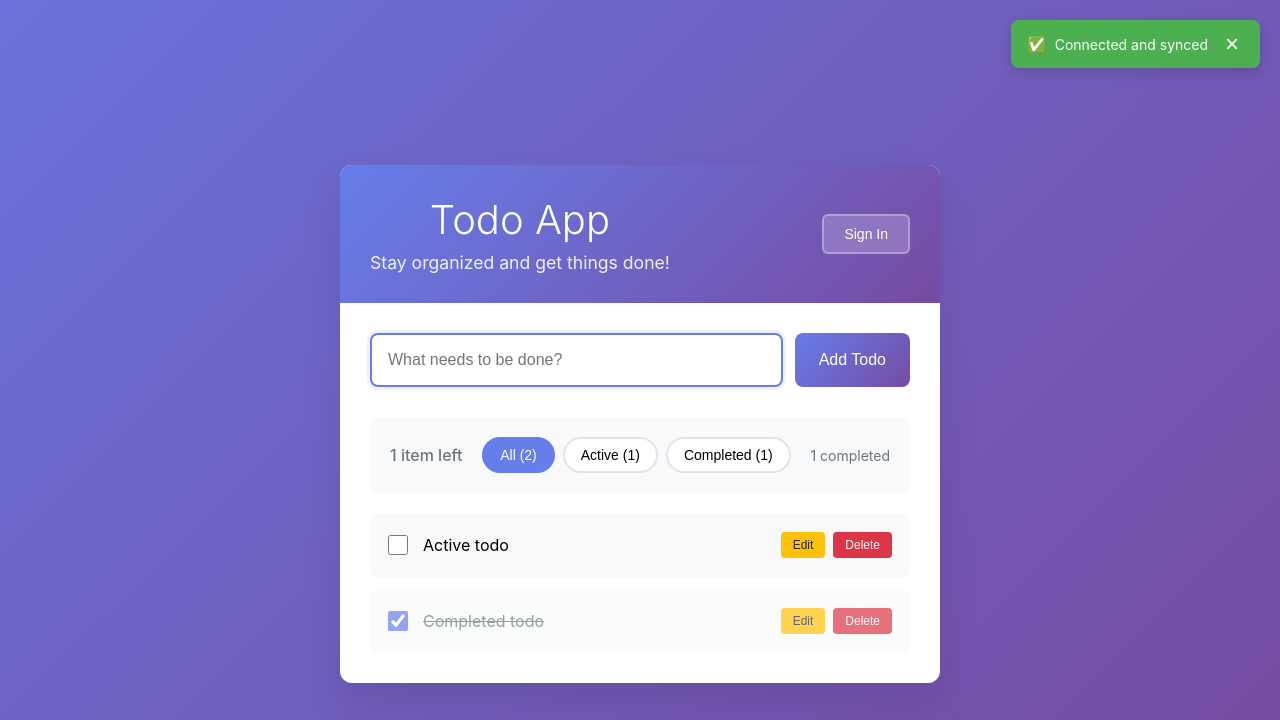
Test: App Component › filters todos correctly
(page scrolled)
Expected: the text "Active todo" is shown, [423,535,509,555]
Expected: the text "Completed todo" is shown, [423,611,544,631]
Note: Test active filter - use regex to match button text with spaces
What coordinates should you click on to do the following:
click the button "Active (1)"
I would click on:
 (610, 455)
Its box is [563,437,658,473].
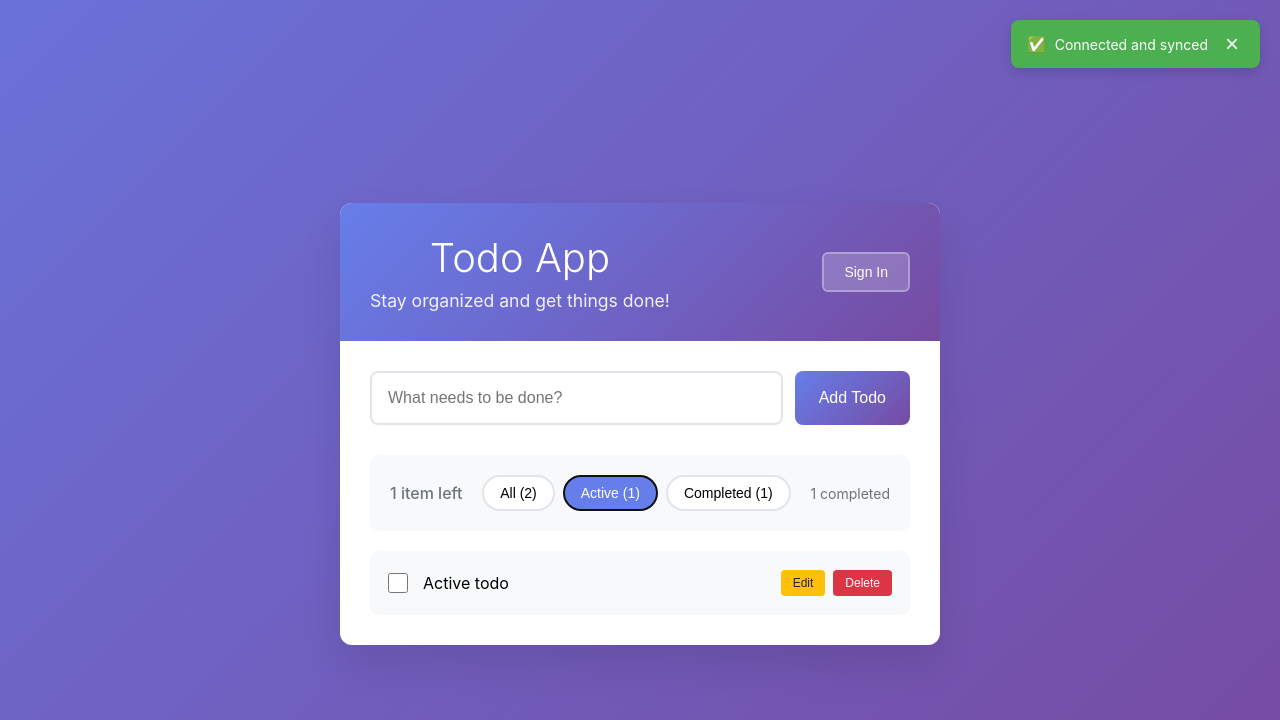
Expected: the text "Active todo" is shown, [423,573,509,593]
Expected: the text "Completed todo" is gone
Note: Test completed filter
What coordinates should you click on to do the following:
click the button "Completed (1)"
I would click on:
 (728, 493)
Its box is [666,475,791,511].
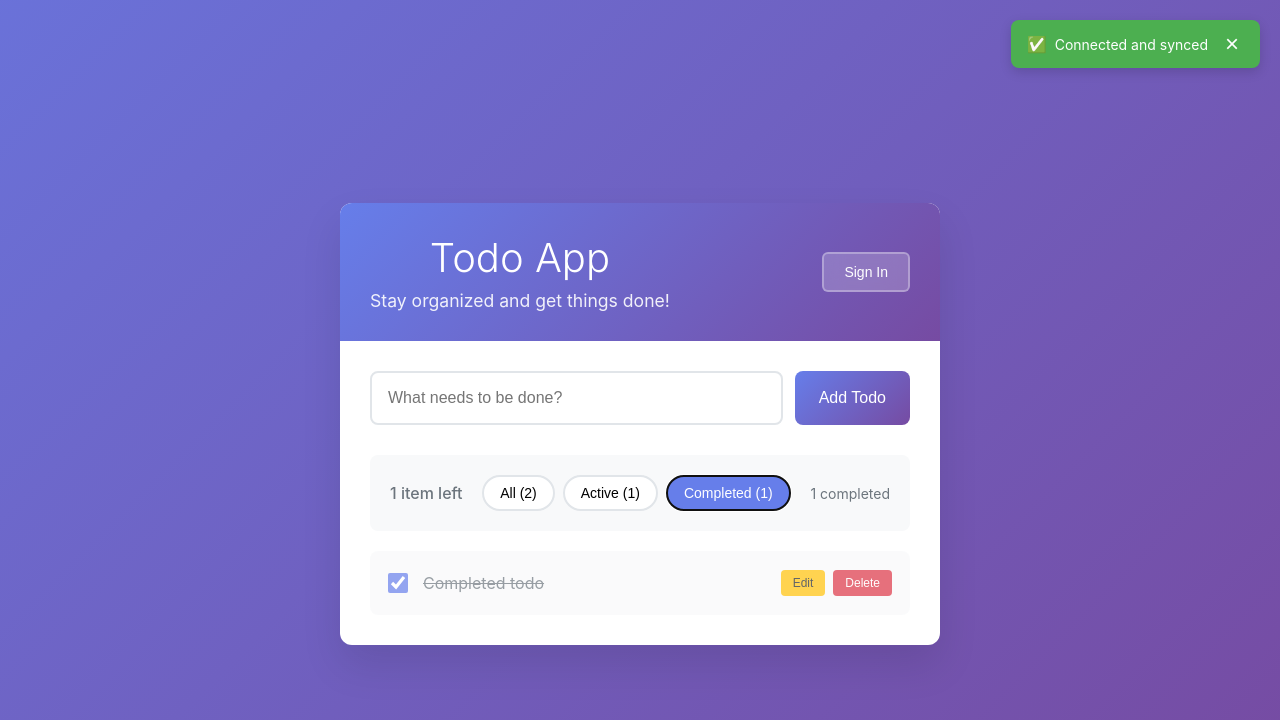
Expected: the text "Completed todo" is shown, [423,573,544,593]
Expected: the text "Active todo" is gone
Note: Test all filter
What coordinates should you click on to do the following:
click the button "All (2)"
I would click on:
 (518, 493)
Its box is [482,475,555,511].
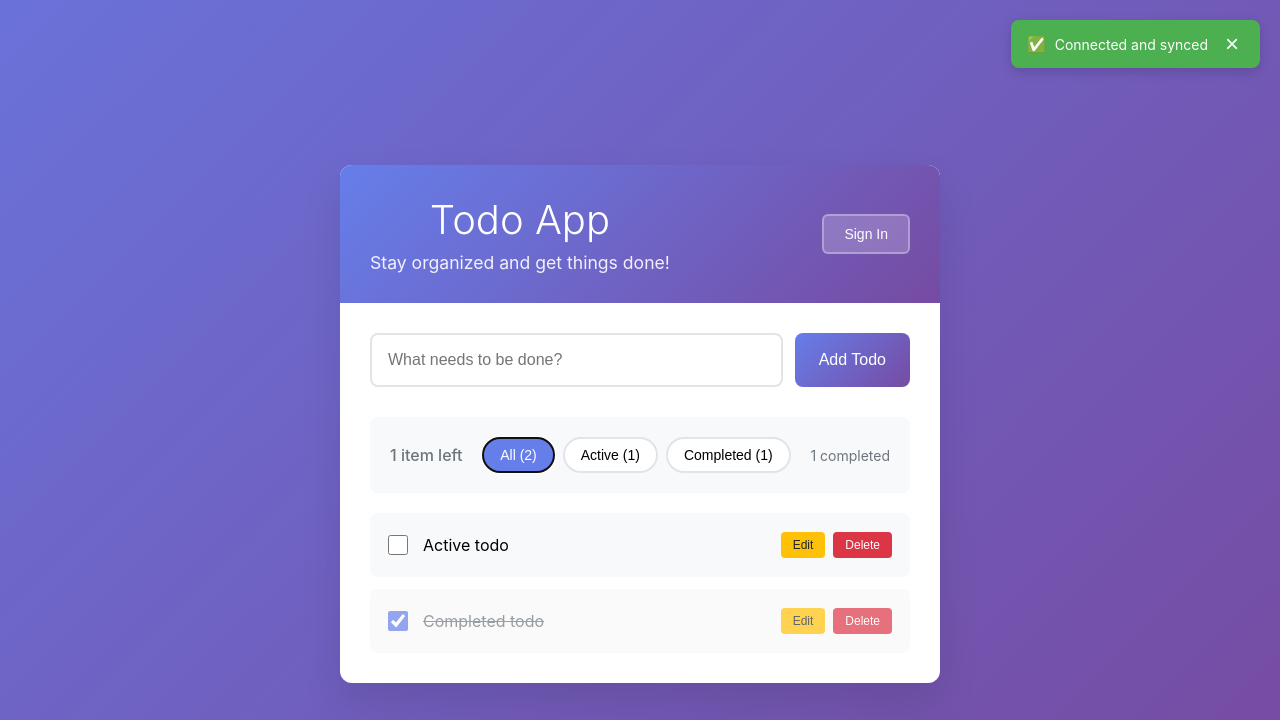
Expected: the text "Completed todo" is shown, [423,611,544,631]
Expected: the text "Active todo" is shown, [423,535,509,555]
